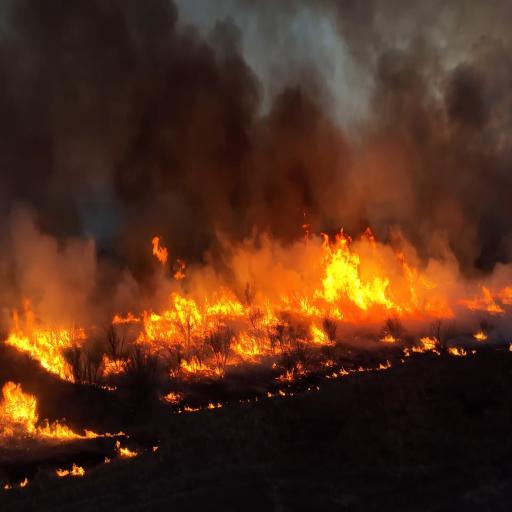fire: (315, 239, 396, 311), (7, 305, 76, 377), (151, 285, 241, 336), (0, 381, 45, 439)
smoke: (132, 17, 264, 246), (421, 68, 511, 255), (8, 174, 102, 292)
